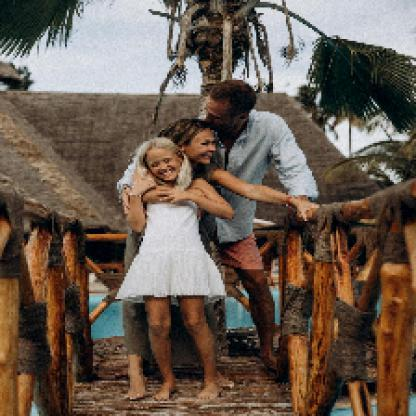child: (115, 137, 236, 403)
